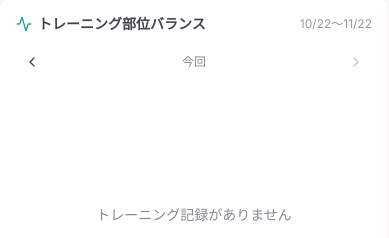
部位バランス › 前へ: 1回目の前日までの期間（9/22〜10/21）・「前回」
Click the button named "前の期間".
click(32, 62)  # box 16,46 -> 48,78
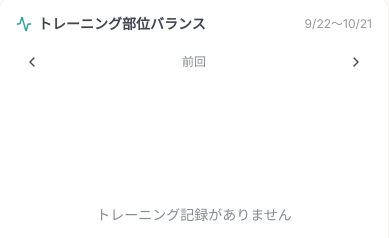
Now the text "9/22〜10/21" is shown, box 305,16 -> 372,32
Now the text "前回" is shown, box 182,54 -> 206,70
